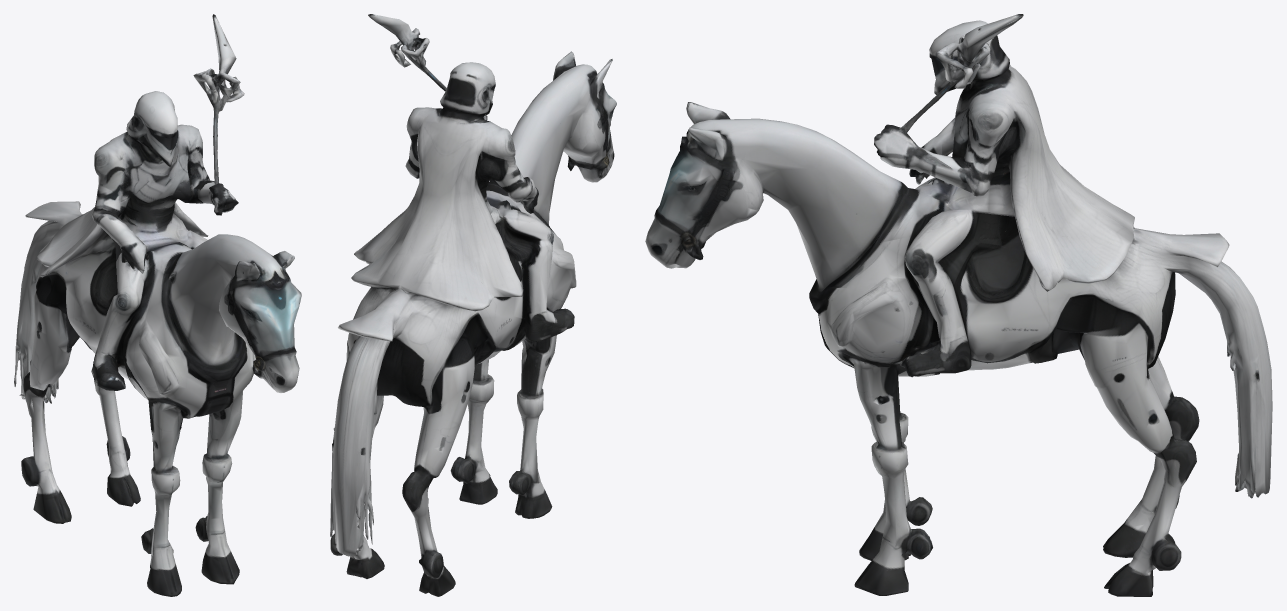
Rendered from Knight.fbx.
3 views of the same model, side by side, from view 1: azimuth 30°, elevation 25°; view 2: azimuth 150°, elevation 25°; view 3: azimuth 270°, elevation 25° (orthographic). The views are drawn at different scales.
Parts seen in each view (by area): view 1: Mesh_0; view 2: Mesh_0; view 3: Mesh_0.
Part boxes in pixels (x1,y1,x2,y2): Mesh_0: (14, 14, 301, 596); Mesh_0: (330, 14, 616, 596); Mesh_0: (645, 14, 1272, 596).
Size of the model in its own units: 69.11 by 200 by 189.
1 material, 1 textured.
